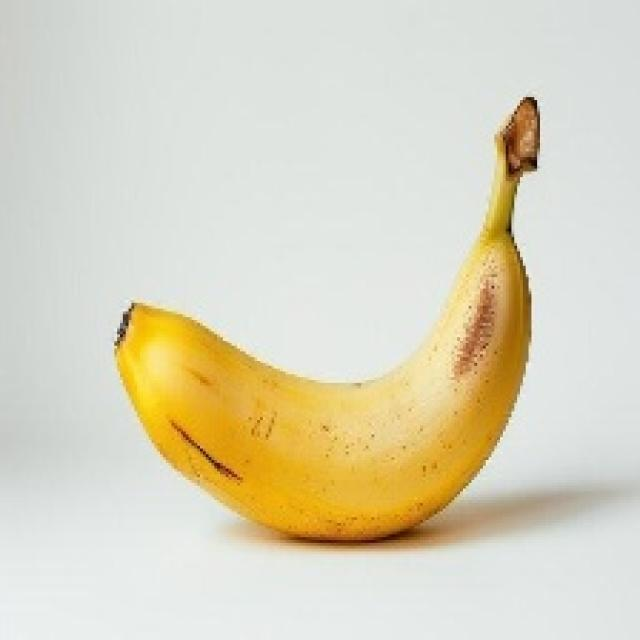Banana: (111, 94, 540, 543)
